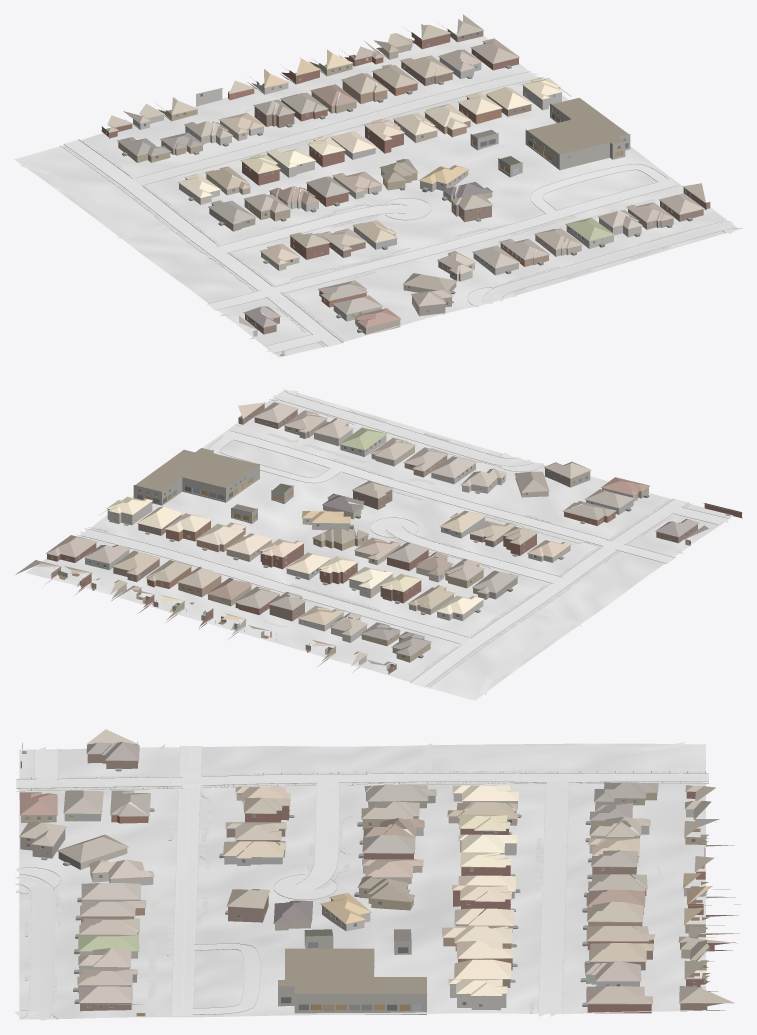
3 renders of one model, top to bottom at view 1: azimuth 30°, elevation 25°; view 2: azimuth 150°, elevation 25°; view 3: azimuth 270°, elevation 25°, orthographic. The views are drawn at different scales.
Parts seen in each view (by area): view 1: ground, roof, wall, concrete, asphalt, curb, detail, walk, wall_stucco, roof_flat, wall_stone, wall_com (+2 smaller); view 2: ground, roof, wall, concrete, asphalt, curb, walk, detail, wall_stucco, roof_flat, wall_stone, wall_com (+4 smaller); view 3: ground, roof, concrete, asphalt, wall, walk, roof_flat, curb, detail, wall_com, wall_stucco, wall_stone (+5 smaller).
Boxes of the visible parts, <box> form: ground: <box>14,32,739,357</box>; roof: <box>107,14,705,329</box>; wall: <box>101,29,710,334</box>; concrete: <box>19,72,736,352</box>; asphalt: <box>64,140,677,346</box>; curb: <box>60,70,742,353</box>; detail: <box>102,29,706,355</box>; walk: <box>61,81,685,346</box>; wall_stucco: <box>179,57,581,321</box>; roof_flat: <box>472,97,628,165</box>; wall_stone: <box>126,81,641,338</box>; wall_com: <box>470,103,630,177</box>; ground: <box>26,389,733,700</box>; roof: <box>15,402,708,666</box>; wall: <box>45,403,742,674</box>; concrete: <box>80,390,728,695</box>; asphalt: <box>221,430,688,687</box>; curb: <box>77,388,729,688</box>; walk: <box>91,409,720,687</box>; detail: <box>27,402,742,672</box>; wall_stucco: <box>85,446,633,631</box>; roof_flat: <box>135,448,291,512</box>; wall_stone: <box>107,423,690,672</box>; wall_com: <box>133,450,293,523</box>; ground: <box>19,743,705,1019</box>; roof: <box>19,729,738,1004</box>; concrete: <box>14,742,684,1020</box>; asphalt: <box>16,746,708,1015</box>; wall: <box>20,743,739,1013</box>; walk: <box>17,744,705,1016</box>; roof_flat: <box>278,929,426,993</box>; curb: <box>16,745,708,1020</box>; detail: <box>19,744,740,1011</box>; wall_com: <box>278,930,426,1014</box>; wall_stucco: <box>64,793,639,986</box>; wall_stone: <box>79,744,735,1010</box>.
Size of the model in its own units: 258 by 19.82 by 265.
